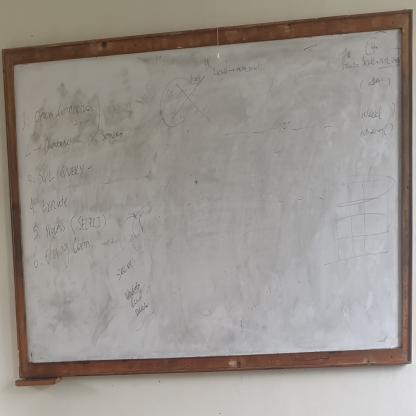Handwritten text: (109, 252, 158, 330), (37, 228, 100, 276), (32, 97, 98, 128), (35, 163, 85, 190), (39, 130, 78, 163), (38, 194, 71, 219), (41, 218, 68, 244), (77, 213, 103, 232)
